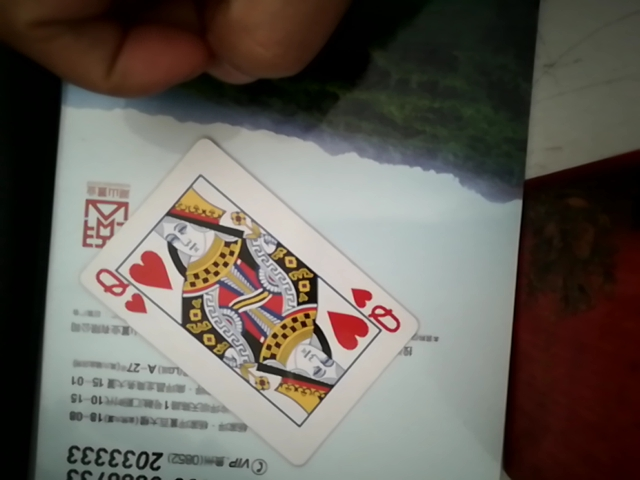hx q: (57, 107, 433, 455)
